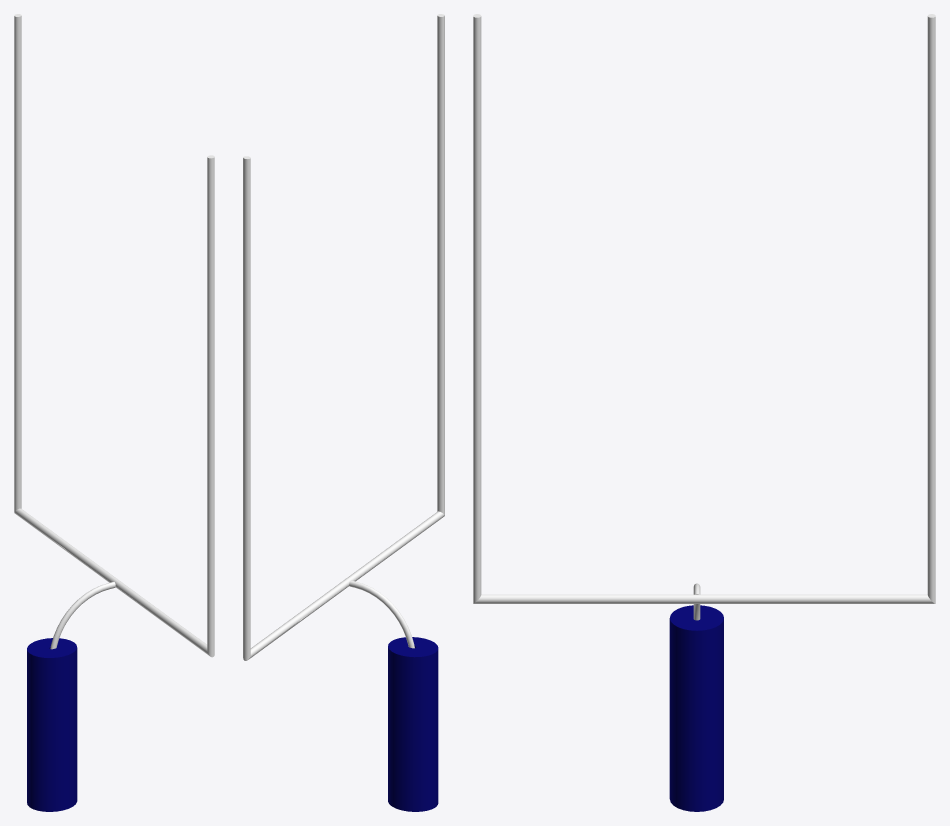
Rendered from upright.obj.
The picture shows the model from 3 angles, left to right: view 1: azimuth 30°, elevation 25°; view 2: azimuth 150°, elevation 25°; view 3: azimuth 270°, elevation 25°; orthographic projection. The views are drawn at different scales.
Parts seen in each view (by area): view 1: Mesh1 Component_7_1 Model; view 2: Mesh1 Component_7_1 Model; view 3: Mesh1 Component_7_1 Model.
Boxes of the visible parts, x1,y1,x2,y2 form: Mesh1 Component_7_1 Model: [14, 14, 214, 811]; Mesh1 Component_7_1 Model: [243, 14, 444, 811]; Mesh1 Component_7_1 Model: [473, 14, 935, 811].
Size of the model in its own units: 1.58 by 11.54 by 5.89.
